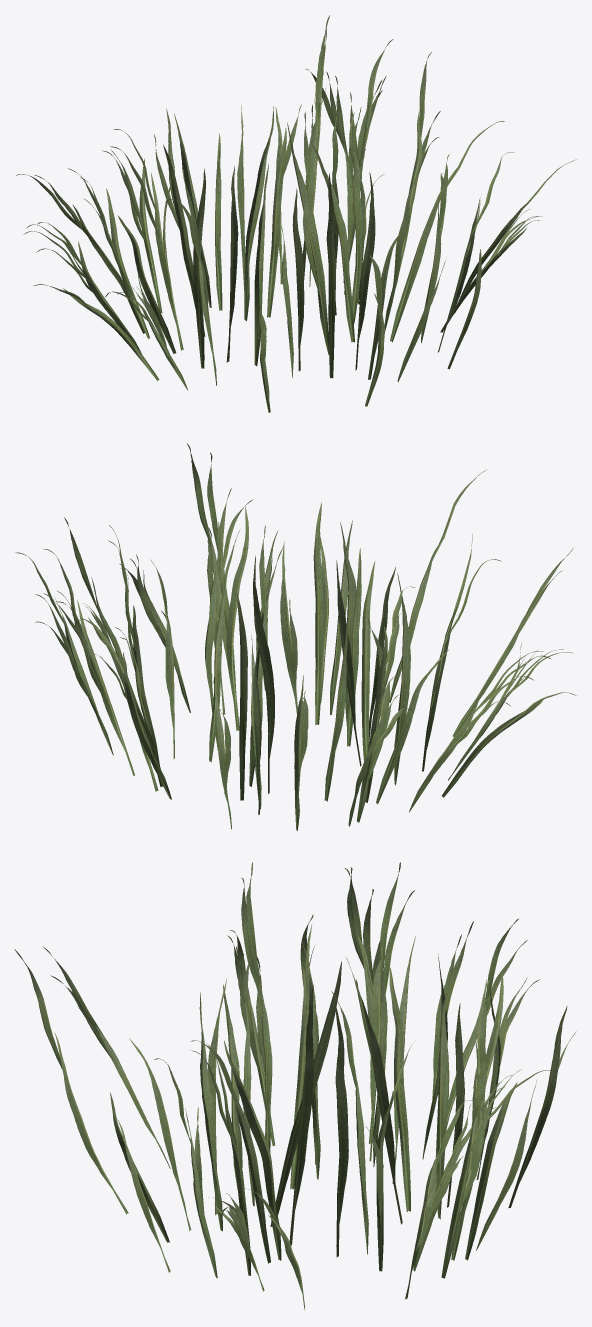
File: ThickGrass_Med.FBX
The picture shows the model from 3 angles, top to bottom: view 1: azimuth 30°, elevation 25°; view 2: azimuth 150°, elevation 25°; view 3: azimuth 270°, elevation 25°; orthographic projection. The views are drawn at different scales.
Parts seen in each view (by area): view 1: ThickGrass_Med; view 2: ThickGrass_Med; view 3: ThickGrass_Med.
Boxes of the visible parts, x1,y1,x2,y2 form: ThickGrass_Med: (16, 15, 576, 412); ThickGrass_Med: (15, 443, 576, 830); ThickGrass_Med: (14, 862, 576, 1309).
Bounding box in the file's own units: 157 × 124 × 74.05.
